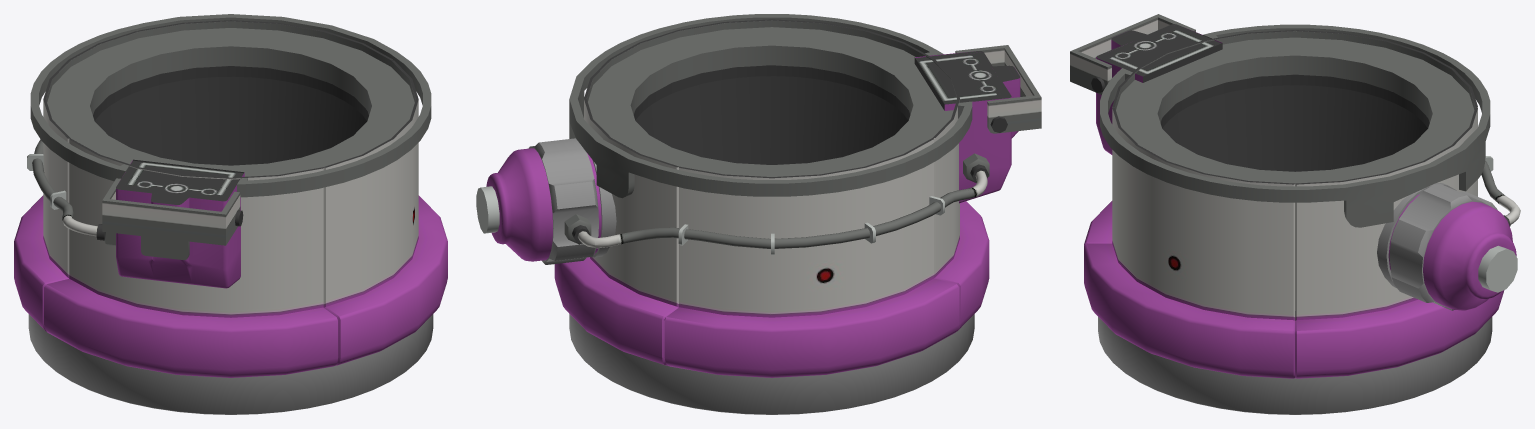
Rendered from gel_purple.glb.
3 views of the same model, side by side, from view 1: azimuth 30°, elevation 25°; view 2: azimuth 150°, elevation 25°; view 3: azimuth 270°, elevation 25° (orthographic). The views are drawn at different scales.
Parts seen in each view (by area): view 1: EDITOR_paint_dropper.004; view 2: EDITOR_paint_dropper.004; view 3: EDITOR_paint_dropper.004.
Part boxes in pixels (box(x1,y1,x2,y2)): EDITOR_paint_dropper.004: box(14, 14, 447, 414); EDITOR_paint_dropper.004: box(476, 14, 1041, 414); EDITOR_paint_dropper.004: box(1070, 14, 1520, 414).
Bounding box in the file's own units: 1.52 × 0.894 × 1.54.
1 material, 1 textured.
